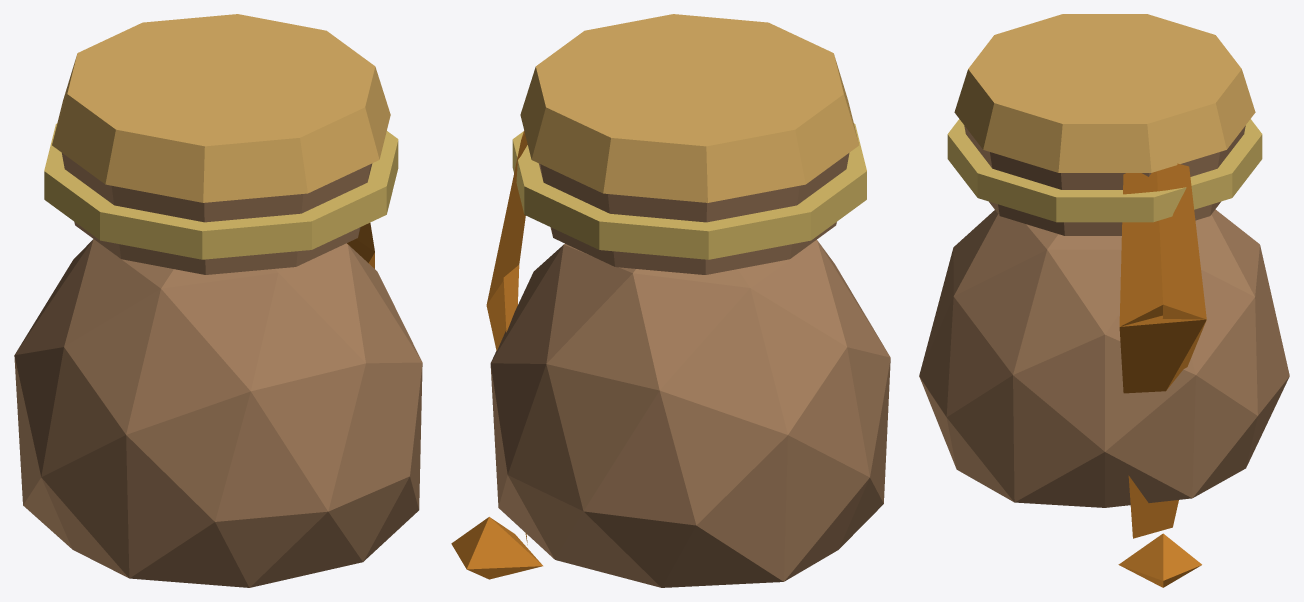
File: honey_jar.glb
3 views of the same model, side by side, from view 1: azimuth 30°, elevation 25°; view 2: azimuth 150°, elevation 25°; view 3: azimuth 270°, elevation 25° (orthographic). The views are drawn at different scales.
Visible parts, largest first — view 1: honey_jar.001; view 2: honey_jar.001; view 3: honey_jar.001.
Part boxes in pixels (box(x1,y1,x2,y2)): honey_jar.001: box(14, 14, 422, 587); honey_jar.001: box(451, 14, 890, 587); honey_jar.001: box(919, 14, 1289, 587).
Size of the model in its own units: 0.1486 by 0.19 by 0.1425.
